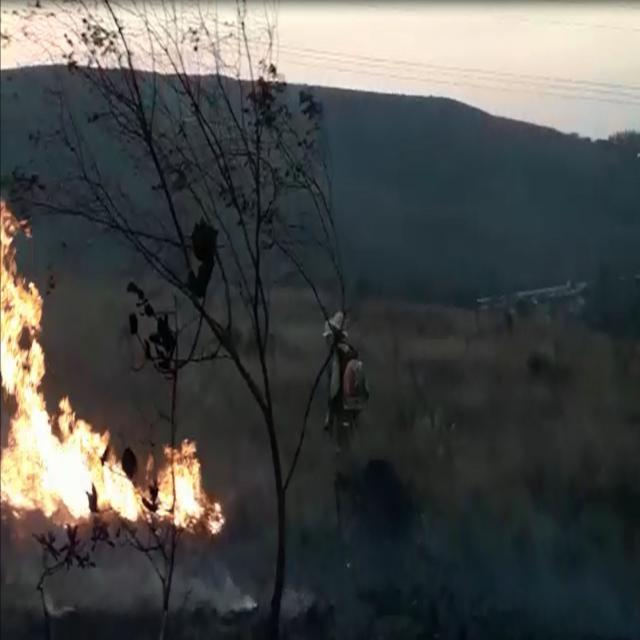Fire: (1, 197, 224, 532)
